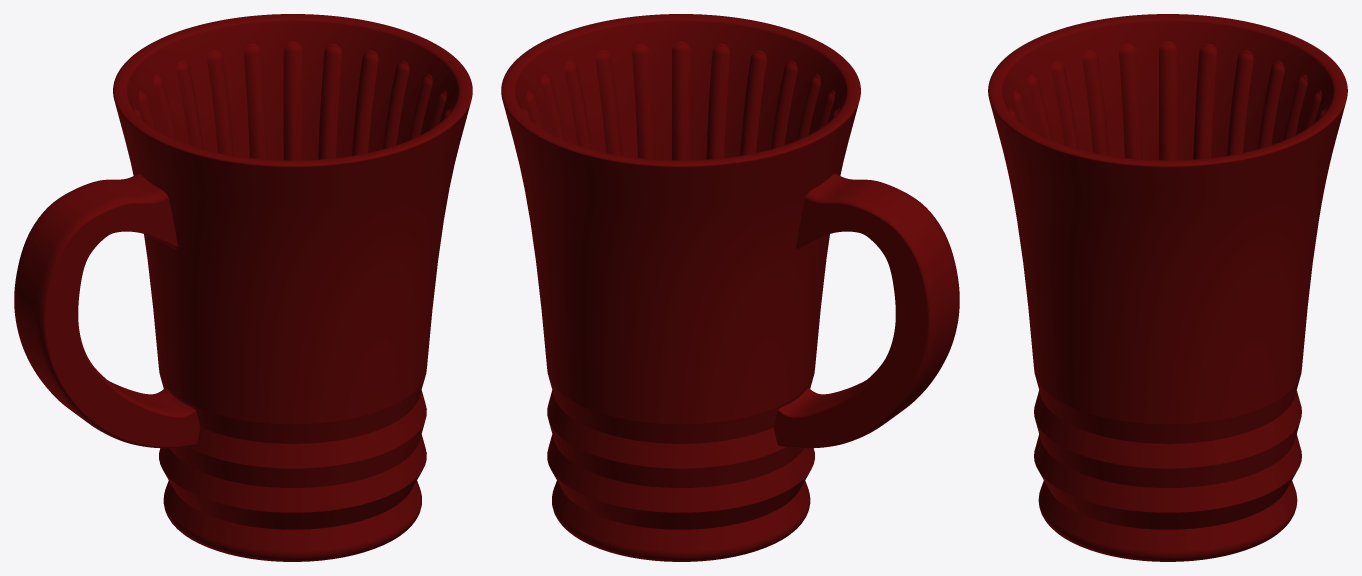
The picture shows the model from 3 angles, left to right: view 1: azimuth 30°, elevation 25°; view 2: azimuth 150°, elevation 25°; view 3: azimuth 270°, elevation 25°; orthographic projection.
Size of the model in its own units: 0.08 by 0.0765 by 0.059.
